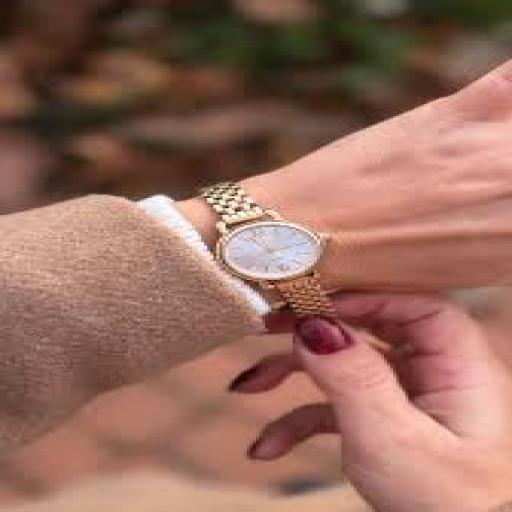KolSaati: (192, 162, 387, 340)
